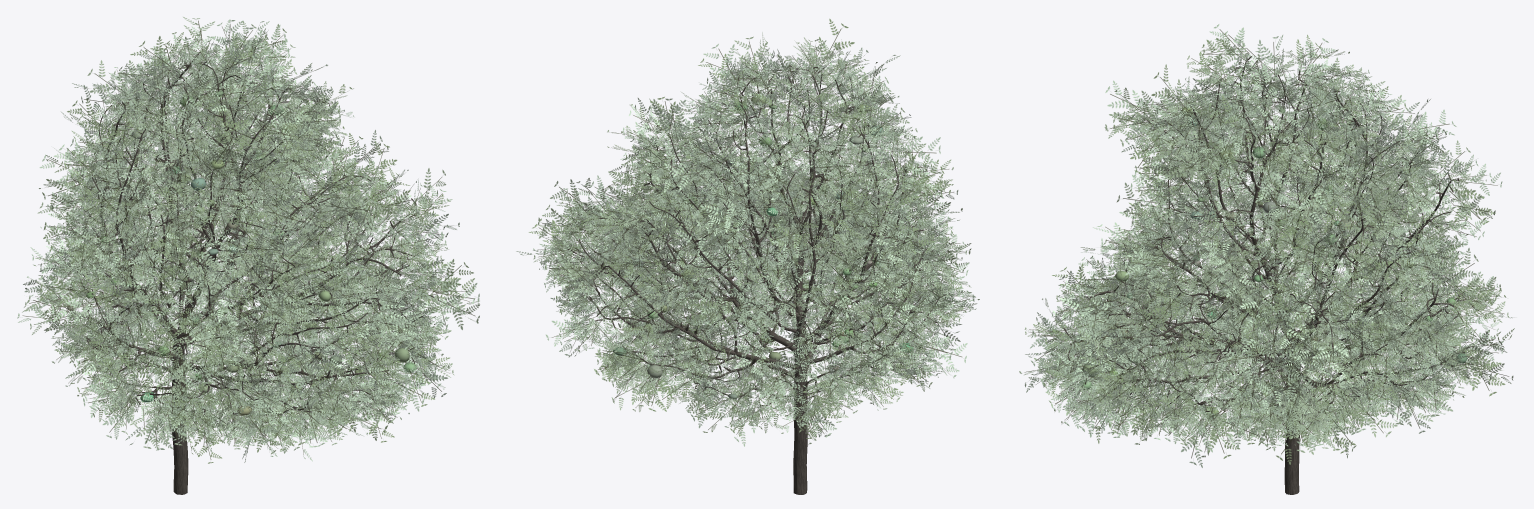
Rendered from tree_54_broadleaf.glb.
The picture shows the model from 3 angles, left to right: view 1: azimuth 30°, elevation 25°; view 2: azimuth 150°, elevation 25°; view 3: azimuth 270°, elevation 25°; orthographic projection. The views are drawn at different scales.
Visible parts, largest first — view 1: tree_54_broadleaf.leaves, tree_54_broadleaf.trunk_branches, tree_54_broadleaf.foliage_volume; view 2: tree_54_broadleaf.leaves, tree_54_broadleaf.trunk_branches, tree_54_broadleaf.foliage_volume; view 3: tree_54_broadleaf.leaves, tree_54_broadleaf.trunk_branches, tree_54_broadleaf.foliage_volume.
Boxes of the visible parts, x1,y1,x2,y2 form: tree_54_broadleaf.leaves: [17, 17, 479, 463]; tree_54_broadleaf.trunk_branches: [66, 52, 433, 494]; tree_54_broadleaf.foliage_volume: [67, 91, 416, 415]; tree_54_broadleaf.leaves: [516, 18, 979, 446]; tree_54_broadleaf.trunk_branches: [568, 65, 938, 494]; tree_54_broadleaf.foliage_volume: [613, 95, 915, 399]; tree_54_broadleaf.leaves: [1019, 24, 1514, 467]; tree_54_broadleaf.trunk_branches: [1063, 56, 1478, 494]; tree_54_broadleaf.foliage_volume: [1078, 82, 1467, 416].
Size of the model in its own units: 13.87 by 14.61 by 14.65.
Materials: 3 (2 with a texture image).
